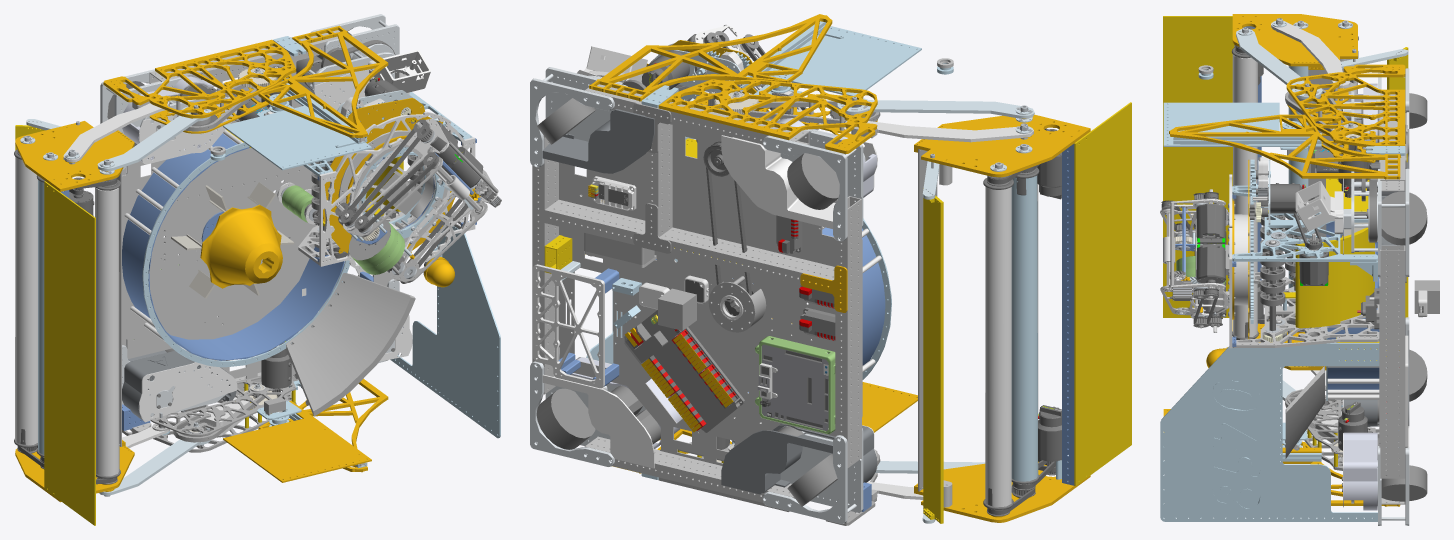
File: cannonbolt.glb
3 views of the same model, side by side, from view 1: azimuth 30°, elevation 25°; view 2: azimuth 150°, elevation 25°; view 3: azimuth 270°, elevation 25° (orthographic). The views are drawn at different scales.
Parts seen in each view (by area): view 1: Part 1 (×4), Top Bellypan, FrontHopperPlate, Polytube (×2), Side Wall (×2), Front Plate-Mirrored, Simplified MK4N (×3), Link3 (×2), Part 1-Mirrored, Hopper Guide 4, Cone Drum, Hopper Guide 3 (+32 smaller); view 2: Top Bellypan, Simplified MK4N (×4), FrontHopperPlate, Part 1 (×2), Tube 2"x1"x20" (×2), Link3 (×2), Polytube, Swerve Bottom Cover A (×2), Swerve BottomCover B (×2), PolyTubeTop, Front Plate-Mirrored, Simplified PDH (+30 smaller); view 3: Part 1 (×4), FrontHopperPlate, Simplified MK4N (×4), Tube 2"x1"x20", Front Plate-Mirrored, 3D print path feeder, Link3, Polytube, Kraken X60 Brushless Motor (×3), Swerve Wall B (×2), Feeder Plate 1, Feeder plate 2 (+33 smaller).
Boxes of the visible parts, bbox=[...] form: Part 1 (×4): bbox=[223, 25, 500, 472]; Top Bellypan: bbox=[122, 47, 390, 394]; FrontHopperPlate: bbox=[44, 181, 95, 525]; Polytube (×2): bbox=[15, 157, 119, 476]; Side Wall (×2): bbox=[122, 133, 344, 360]; Front Plate-Mirrored: bbox=[103, 39, 296, 118]; Simplified MK4N (×3): bbox=[100, 14, 399, 416]; Link3 (×2): bbox=[15, 121, 134, 502]; Part 1-Mirrored: bbox=[223, 400, 371, 482]; Hopper Guide 4: bbox=[312, 273, 415, 364]; Cone Drum: bbox=[200, 204, 282, 288]; Hopper Guide 3: bbox=[286, 322, 376, 416]; Top Bellypan: bbox=[559, 100, 862, 465]; Simplified MK4N (×4): bbox=[530, 67, 865, 524]; FrontHopperPlate: bbox=[1074, 102, 1131, 485]; Part 1 (×2): bbox=[589, 14, 921, 101]; Tube 2"x1"x20" (×2): bbox=[532, 135, 861, 467]; Link3 (×2): bbox=[914, 114, 1090, 522]; Polytube: bbox=[985, 187, 1011, 507]; Swerve Bottom Cover A (×2): bbox=[542, 109, 832, 494]; Swerve BottomCover B (×2): bbox=[542, 135, 837, 468]; PolyTubeTop: bbox=[1011, 175, 1038, 481]; Front Plate-Mirrored: bbox=[658, 79, 877, 153]; Simplified PDH: bbox=[624, 310, 744, 432]; Part 1 (×4): bbox=[1160, 102, 1401, 521]; FrontHopperPlate: bbox=[1163, 16, 1234, 317]; Simplified MK4N (×4): bbox=[1342, 68, 1427, 525]; Tube 2"x1"x20": bbox=[1380, 245, 1405, 478]; Front Plate-Mirrored: bbox=[1286, 64, 1405, 146]; 3D print path feeder: bbox=[1295, 227, 1374, 328]; Link3: bbox=[1232, 14, 1357, 66]; Polytube: bbox=[1232, 54, 1257, 337]; Kraken X60 Brushless Motor (×3): bbox=[1196, 189, 1328, 298]; Swerve Wall B (×2): bbox=[1343, 83, 1377, 510]; Feeder Plate 1: bbox=[1232, 185, 1377, 261]; Feeder plate 2: bbox=[1232, 272, 1379, 347].
Bounding box in the file's own units: 0.9552 × 0.7458 × 0.5657.
